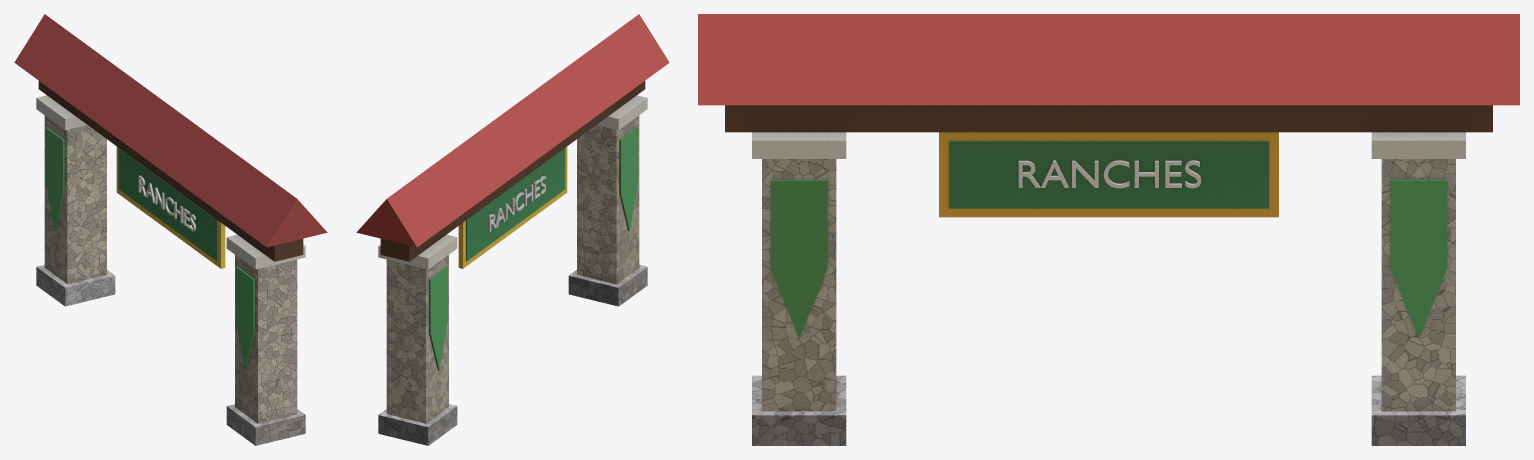
The model's file is hub_gate_ranches.fbx.
3 views of the same model, side by side, from view 1: azimuth 30°, elevation 25°; view 2: azimuth 150°, elevation 25°; view 3: azimuth 270°, elevation 25° (orthographic). The views are drawn at different scales.
Visible parts, largest first — view 1: hub_gate_ranches_body; view 2: hub_gate_ranches_body; view 3: hub_gate_ranches_body.
Part boxes in pixels (<box>): hub_gate_ranches_body: <box>14,14,327,445</box>; hub_gate_ranches_body: <box>356,14,669,445</box>; hub_gate_ranches_body: <box>698,14,1519,445</box>.
Bounding box in the file's own units: 340 × 1350 × 2440.
2 materials, 1 textured.
